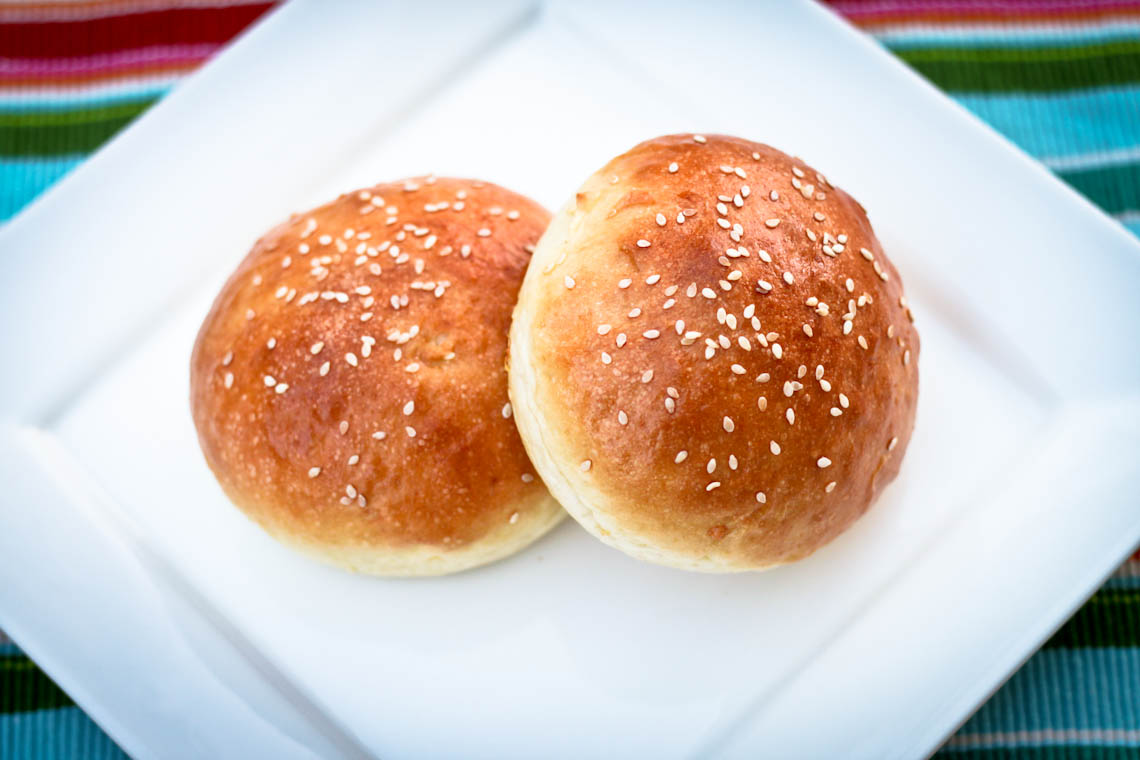hamburger_buns: (200, 127, 613, 601), (511, 135, 932, 593)
